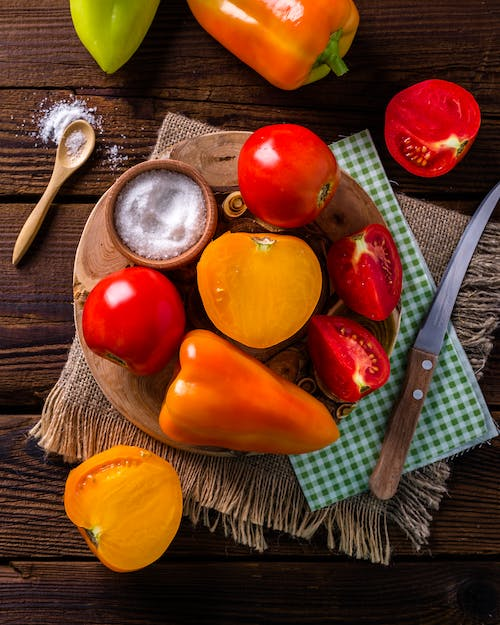knife: (367, 178, 500, 502)
